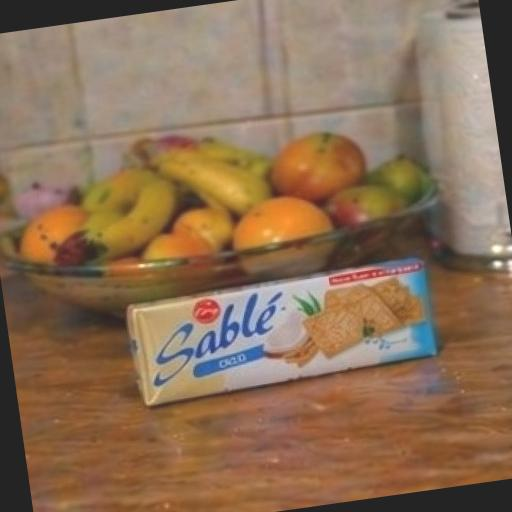sabl: (63, 196, 509, 486)
